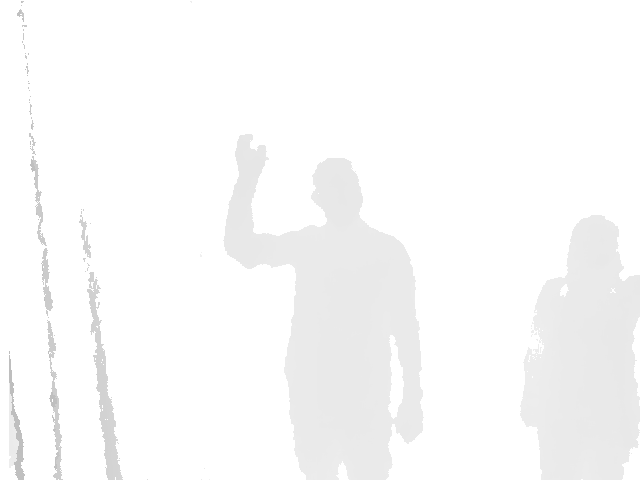hand: (234, 132, 267, 184)
head: (565, 213, 625, 293), (310, 156, 363, 221)
person: (222, 132, 426, 479), (519, 213, 640, 480)
